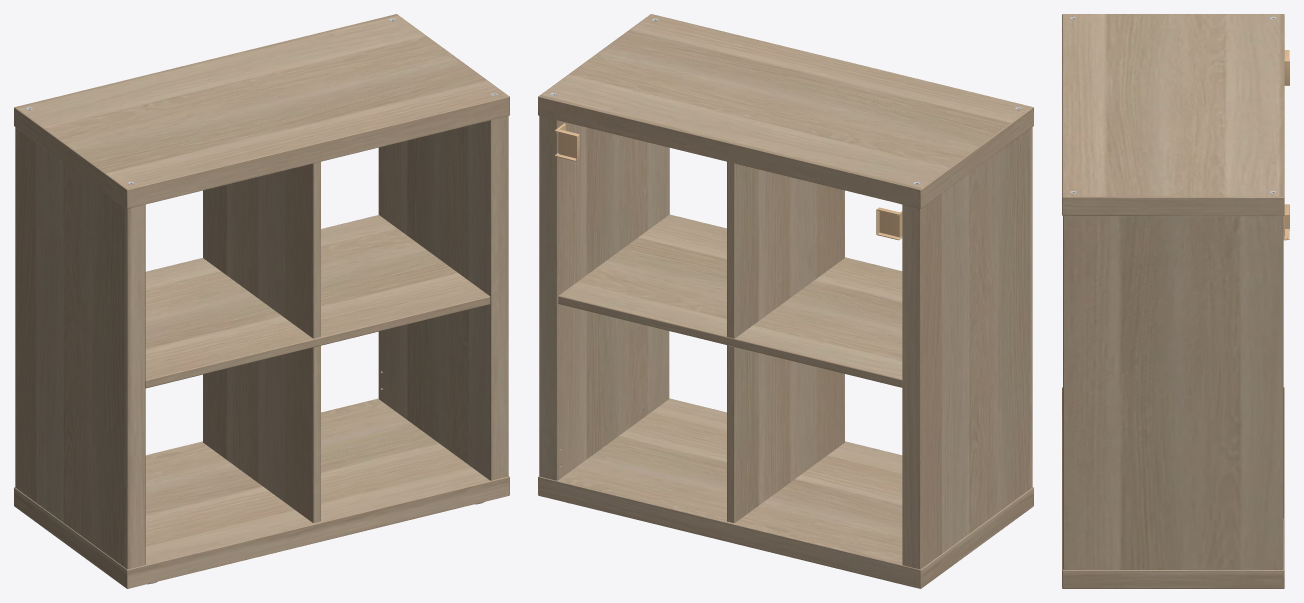
File: 48 - KALLAX - 層架組, 染白橡木紋, 77x77 公分 IKEA 線上購物.glb
3 views of the same model, side by side, from view 1: azimuth 30°, elevation 25°; view 2: azimuth 150°, elevation 25°; view 3: azimuth 270°, elevation 25° (orthographic).
Parts seen in each view (by area): view 1: model; view 2: model; view 3: model.
Part boxes in pixels (<box>): model: <box>14,14,509,588</box>; model: <box>538,14,1033,588</box>; model: <box>1062,14,1289,588</box>.
Size of the model in its own units: 0.765 by 0.7686 by 0.4012.
1 material, 1 textured.
